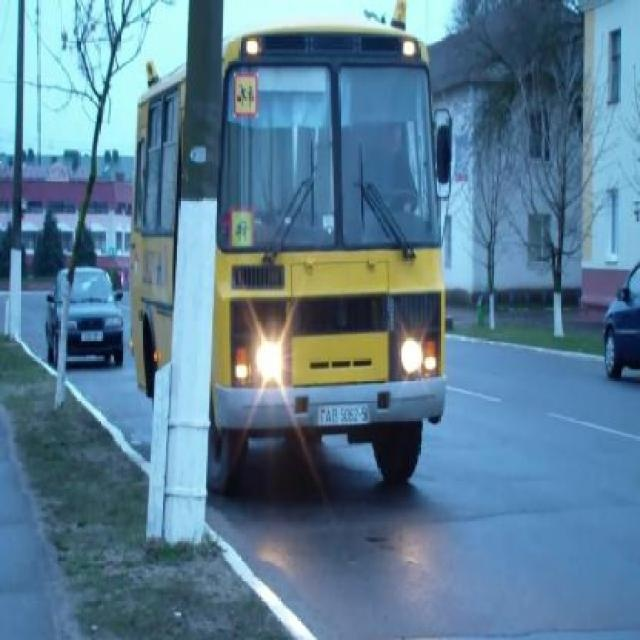Bus: (128, 16, 450, 502)
